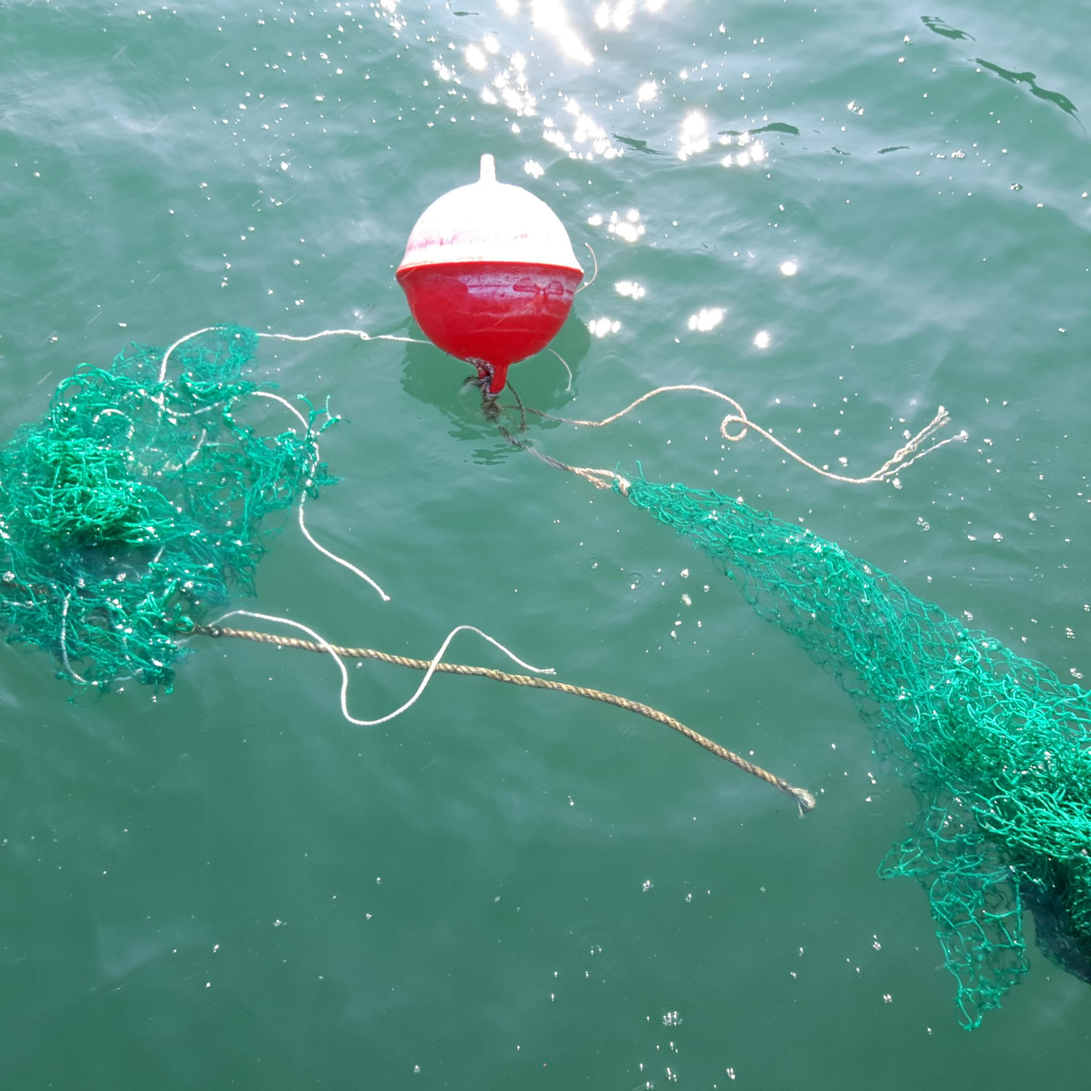sampah_terapung: (61, 244, 970, 727), (611, 462, 1091, 1032), (1, 321, 351, 708), (198, 625, 817, 819), (396, 154, 584, 395)
